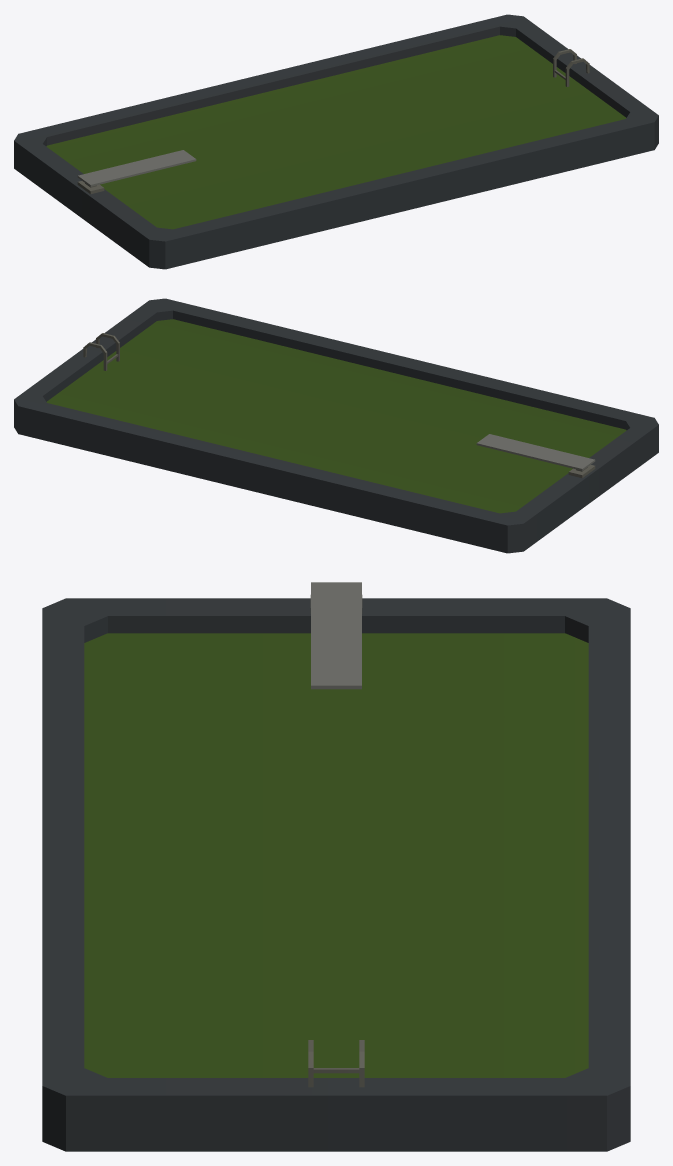
File: Pool_02.fbx
3 renders of one model, top to bottom at view 1: azimuth 30°, elevation 25°; view 2: azimuth 150°, elevation 25°; view 3: azimuth 270°, elevation 25°, orthographic. The views are drawn at different scales.
Visible parts, largest first — view 1: Pool_02; view 2: Pool_02; view 3: Pool_02.
Boxes of the visible parts, left/top/right/bottom form: Pool_02: left=14, top=14, right=658, bottom=269; Pool_02: left=14, top=298, right=658, bottom=553; Pool_02: left=42, top=582, right=630, bottom=1151.
Bounding box in the file's own units: 6 × 0.4861 × 3.
